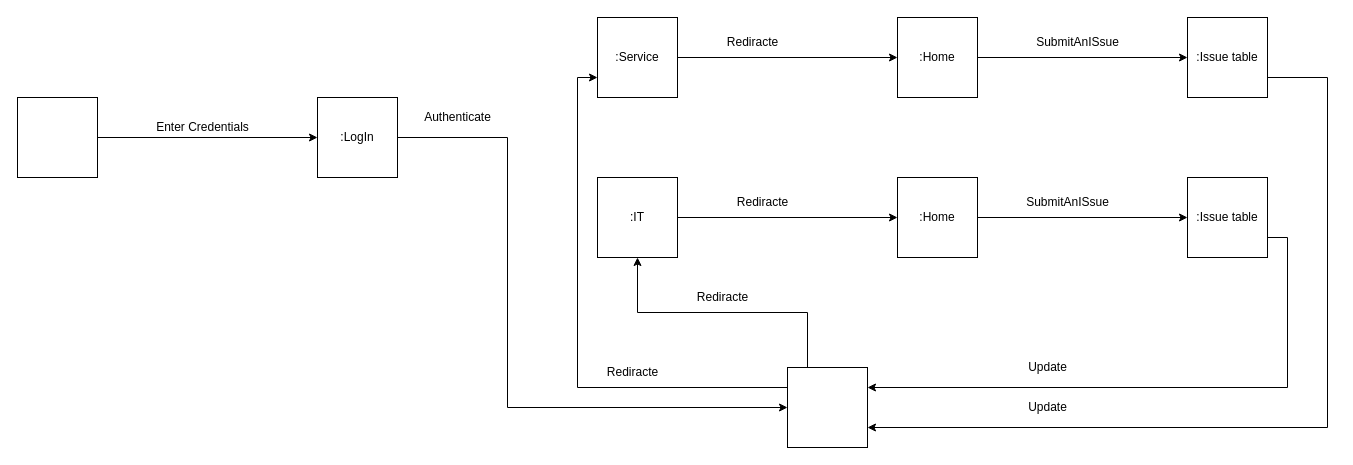
This 1353x465 diagram has some shape labels left out. The centre of each missing label's shape, as x and y in pixels:
":Database" goes at point 827,407.
":User" goes at point 57,137.
